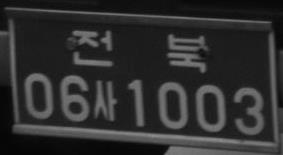0: (157, 80, 189, 129), (194, 84, 226, 133), (23, 72, 53, 119)
1: (124, 78, 151, 126)
3: (233, 85, 264, 135)
6: (58, 74, 90, 122)
사: (91, 80, 117, 122)
전북_D: (72, 29, 207, 74)
